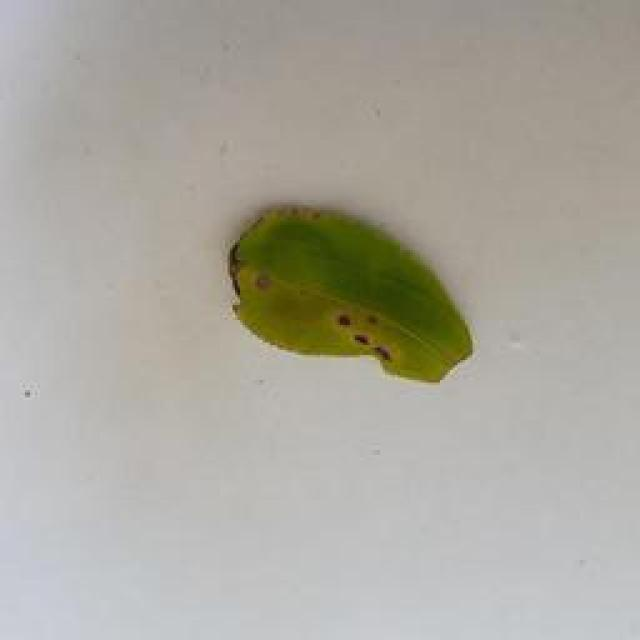Helopeltis: (214, 179, 507, 397)
